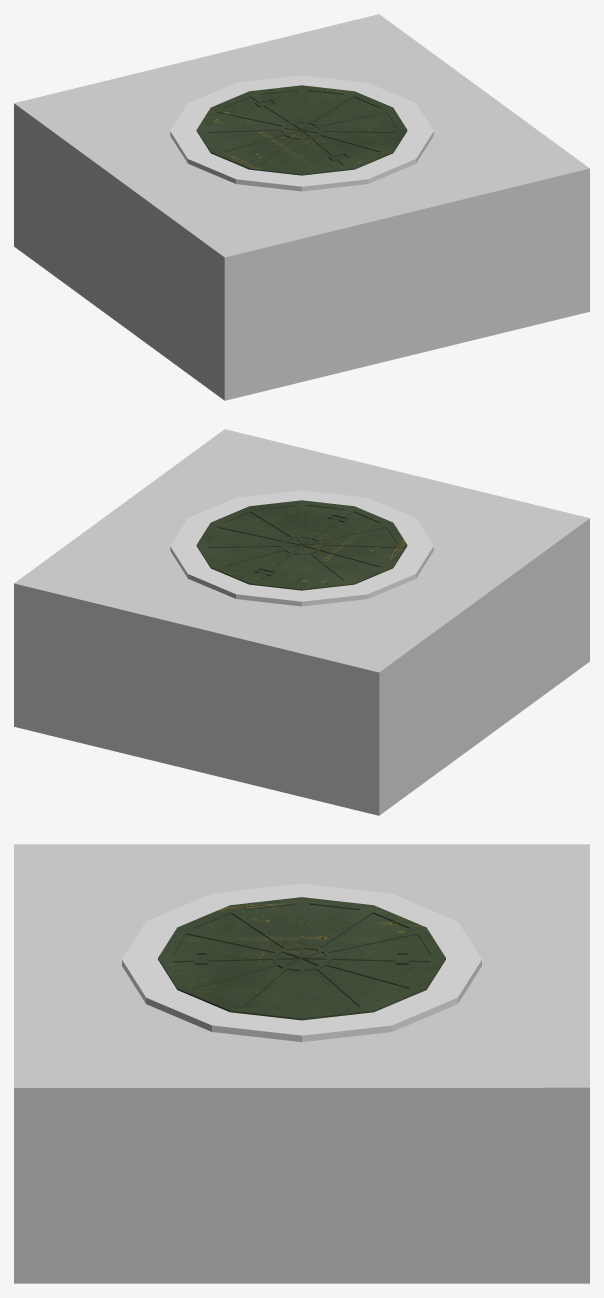
File: groundtile_iron.fbx
The picture shows the model from 3 angles, top to bottom: view 1: azimuth 30°, elevation 25°; view 2: azimuth 150°, elevation 25°; view 3: azimuth 270°, elevation 25°; orthographic projection. The views are drawn at different scales.
Visible parts, largest first — view 1: ground, openhole, holeframe; view 2: ground, openhole, holeframe; view 3: ground, openhole, holeframe.
Boxes of the visible parts, x1,y1,x2,y2 form: ground: (14, 14, 589, 400); openhole: (196, 85, 407, 175); holeframe: (170, 75, 433, 191); ground: (14, 429, 589, 815); openhole: (196, 500, 407, 590); holeframe: (170, 490, 433, 606); ground: (14, 844, 589, 1283); openhole: (158, 897, 445, 1020); holeframe: (122, 883, 481, 1041).
Size of the model in its own units: 200 by 78.33 by 200.
